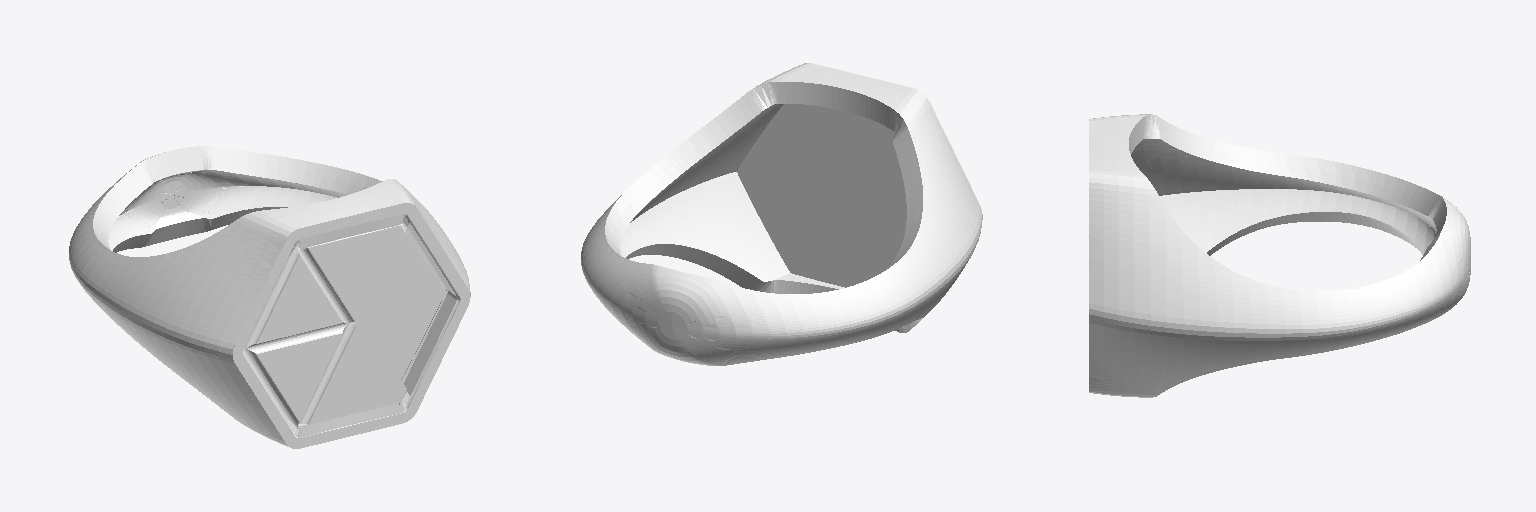
File: chevalier01.obj
3 views of the same model, side by side, from view 1: azimuth 30°, elevation 25°; view 2: azimuth 150°, elevation 25°; view 3: azimuth 270°, elevation 25° (orthographic).
Visible parts, largest first — view 1: unnamed1, unnamed2; view 2: unnamed1, unnamed2; view 3: unnamed1.
Part boxes in pixels (x1,y1,x2,y2): unnamed1: (69,146,470,446); unnamed2: (233,202,470,448); unnamed1: (581,63,982,365); unnamed2: (736,63,928,287); unnamed1: (1089,114,1470,397).
Size of the model in its own units: 20.61 by 13.84 by 21.45.